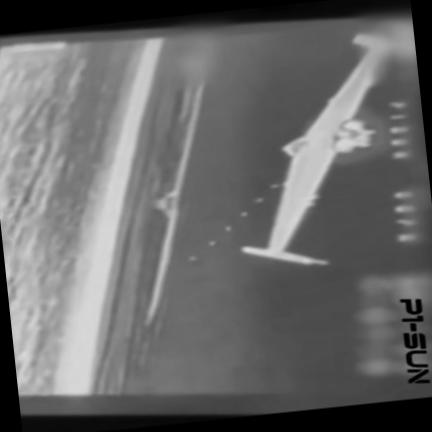Shahed: (240, 34, 387, 265)
